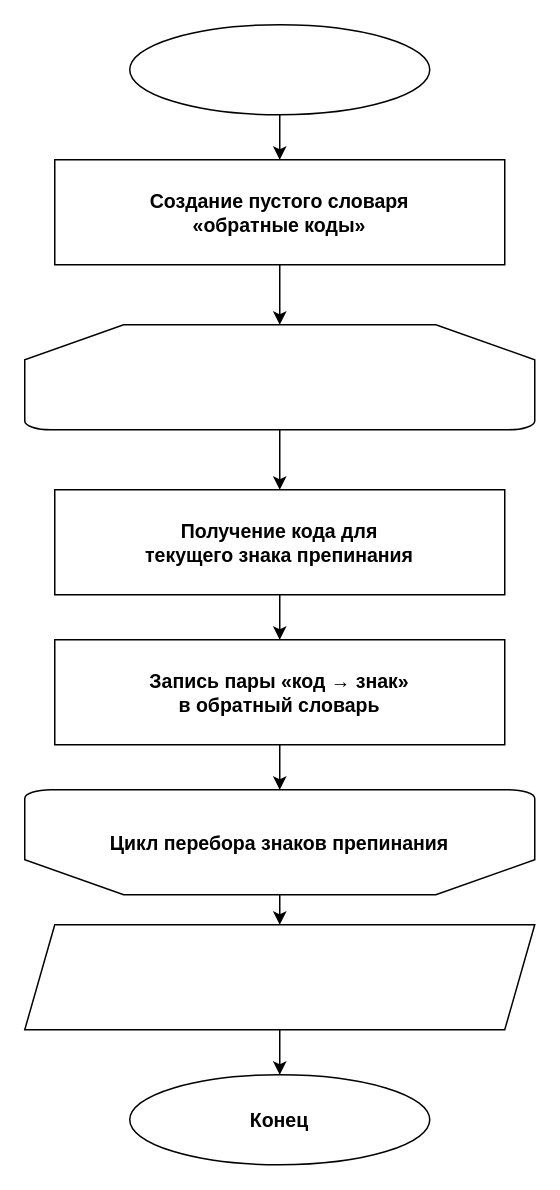
The diagram is 560 pixels wide and 1190 high, and some of its shapes have lost their labels. The centre of each missing label's shape, as x and y in pixels:
"Возврат обратного словаря «код → знак»" belongs at point (279, 976).
"Начало" belongs at point (279, 69).
"Цикл перебора знаков препинания из словаря «знак → код»" belongs at point (279, 376).
